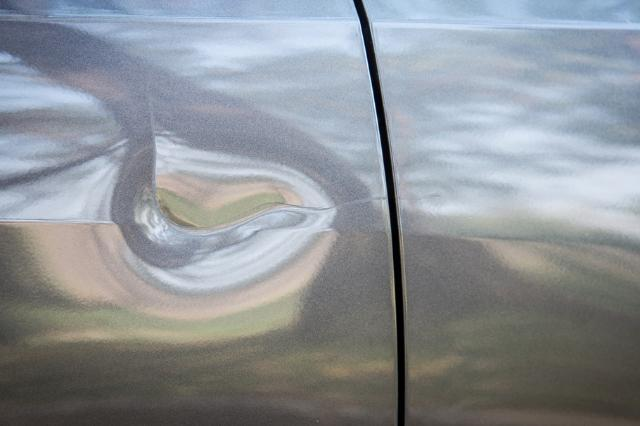Door: (46, 56, 448, 376)
